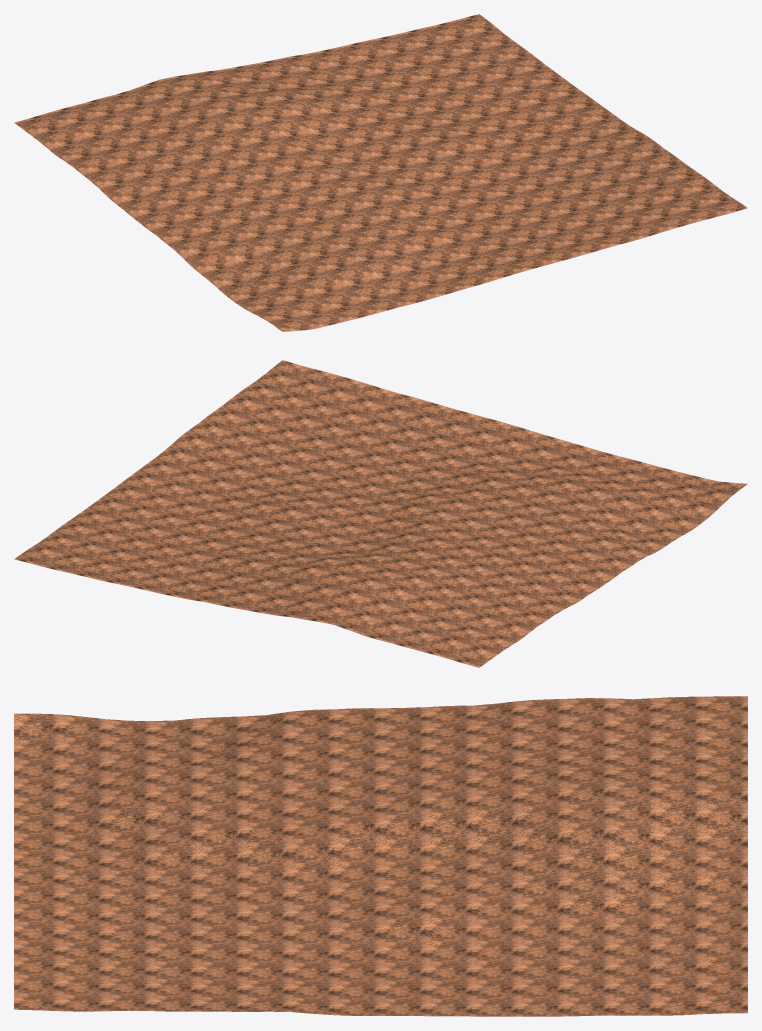
Rendered from terrain_08_22.dae.
The picture shows the model from 3 angles, top to bottom: view 1: azimuth 30°, elevation 25°; view 2: azimuth 150°, elevation 25°; view 3: azimuth 270°, elevation 25°; orthographic projection. The views are drawn at different scales.
Parts seen in each view (by area): view 1: terrain_08_22-node; view 2: terrain_08_22-node; view 3: terrain_08_22-node.
Boxes of the visible parts, x1,y1,x2,y2 form: terrain_08_22-node: (14,14,747,331); terrain_08_22-node: (14,360,747,667); terrain_08_22-node: (14,696,747,1016).
Size of the model in its own units: 128 by 128 by 7.45.
1 material, 1 textured.
